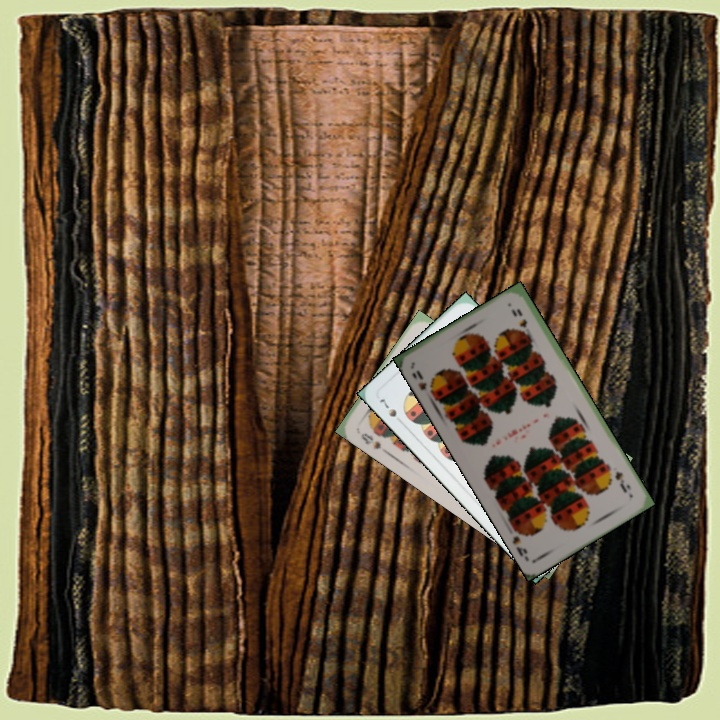S7: (375, 395, 399, 420)
S8: (357, 429, 384, 452)
S9: (412, 366, 439, 399), (611, 467, 633, 496)
